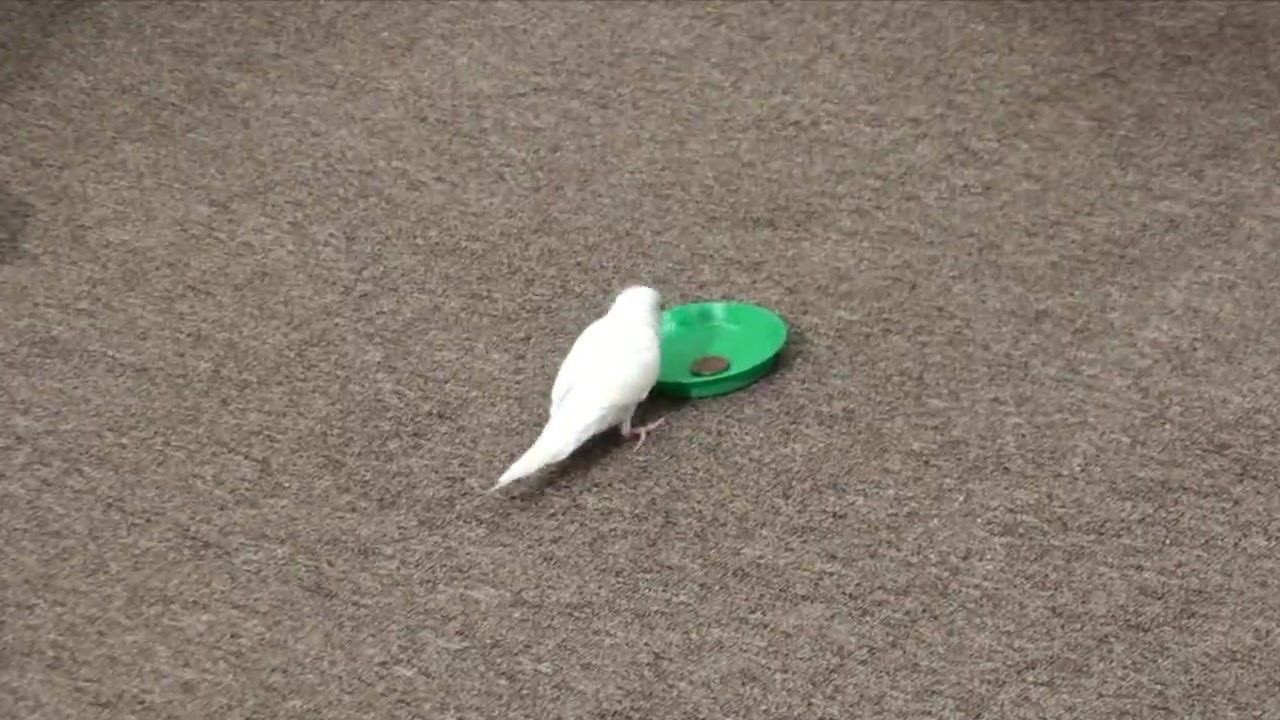bird: (490, 282, 675, 496)
